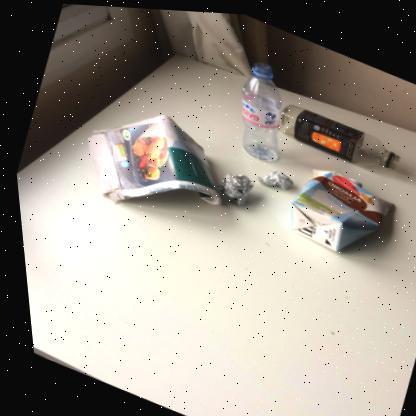Metal: (215, 170, 251, 202), (251, 166, 289, 184)
Paper: (84, 113, 218, 203), (286, 165, 390, 247)
Plastic: (276, 101, 397, 166), (239, 59, 279, 157)
